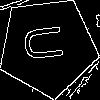U: (23, 22, 73, 64)
